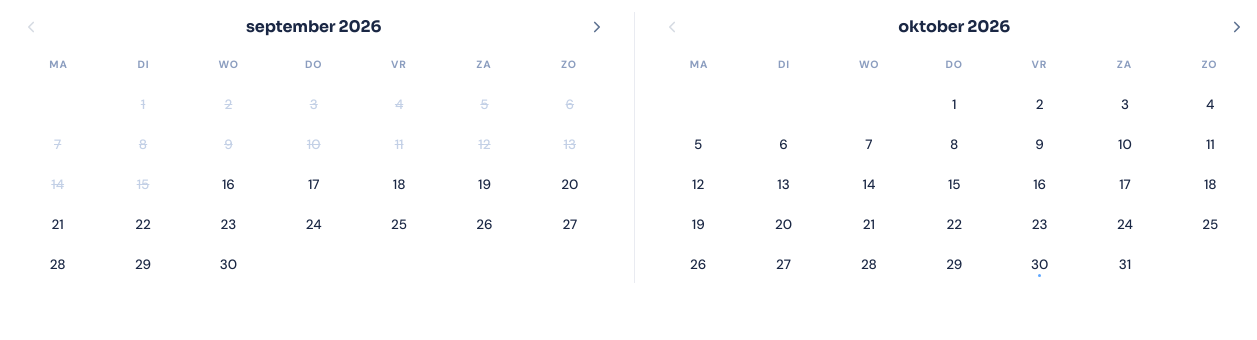
Test: DateCalendar › cannot page back past the month the floor sits in
Expected: the button named "Vorige maand" in the row of "september" is disabled, [16,12,46,42]
Click the button named "Volgende maand" in the row of "september". click: (596, 27)
box: [582,12,612,42]
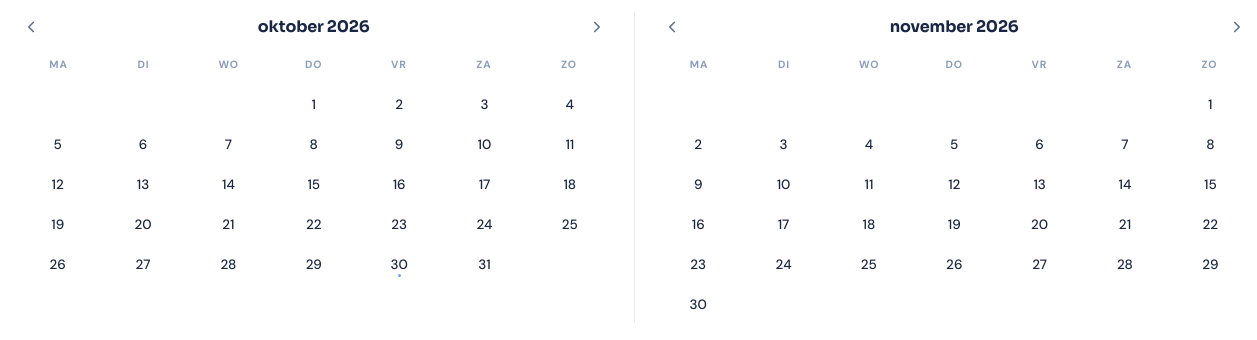
Expected: the text "oktober 2026" is shown, [258,14,370,40]
Result: the button named "Vorige maand" in the row of "oktober" is enabled at [16,12,46,42]
